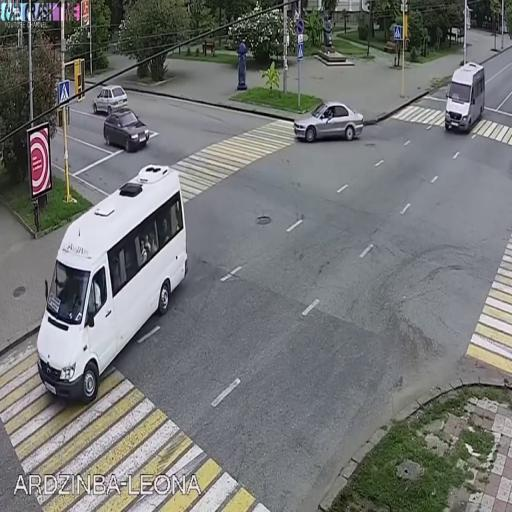小汽车: (41, 170, 183, 382), (296, 102, 362, 142), (448, 66, 483, 130), (102, 110, 146, 150), (94, 80, 128, 112)
